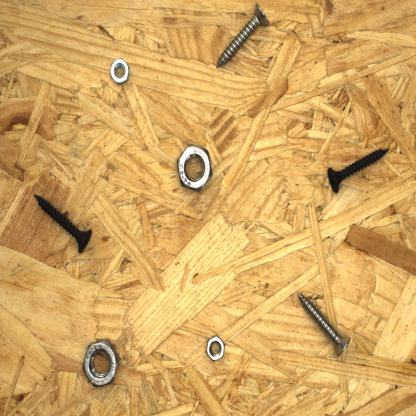screw: (31, 189, 94, 256), (294, 290, 354, 360), (214, 1, 271, 73), (325, 144, 393, 197)
